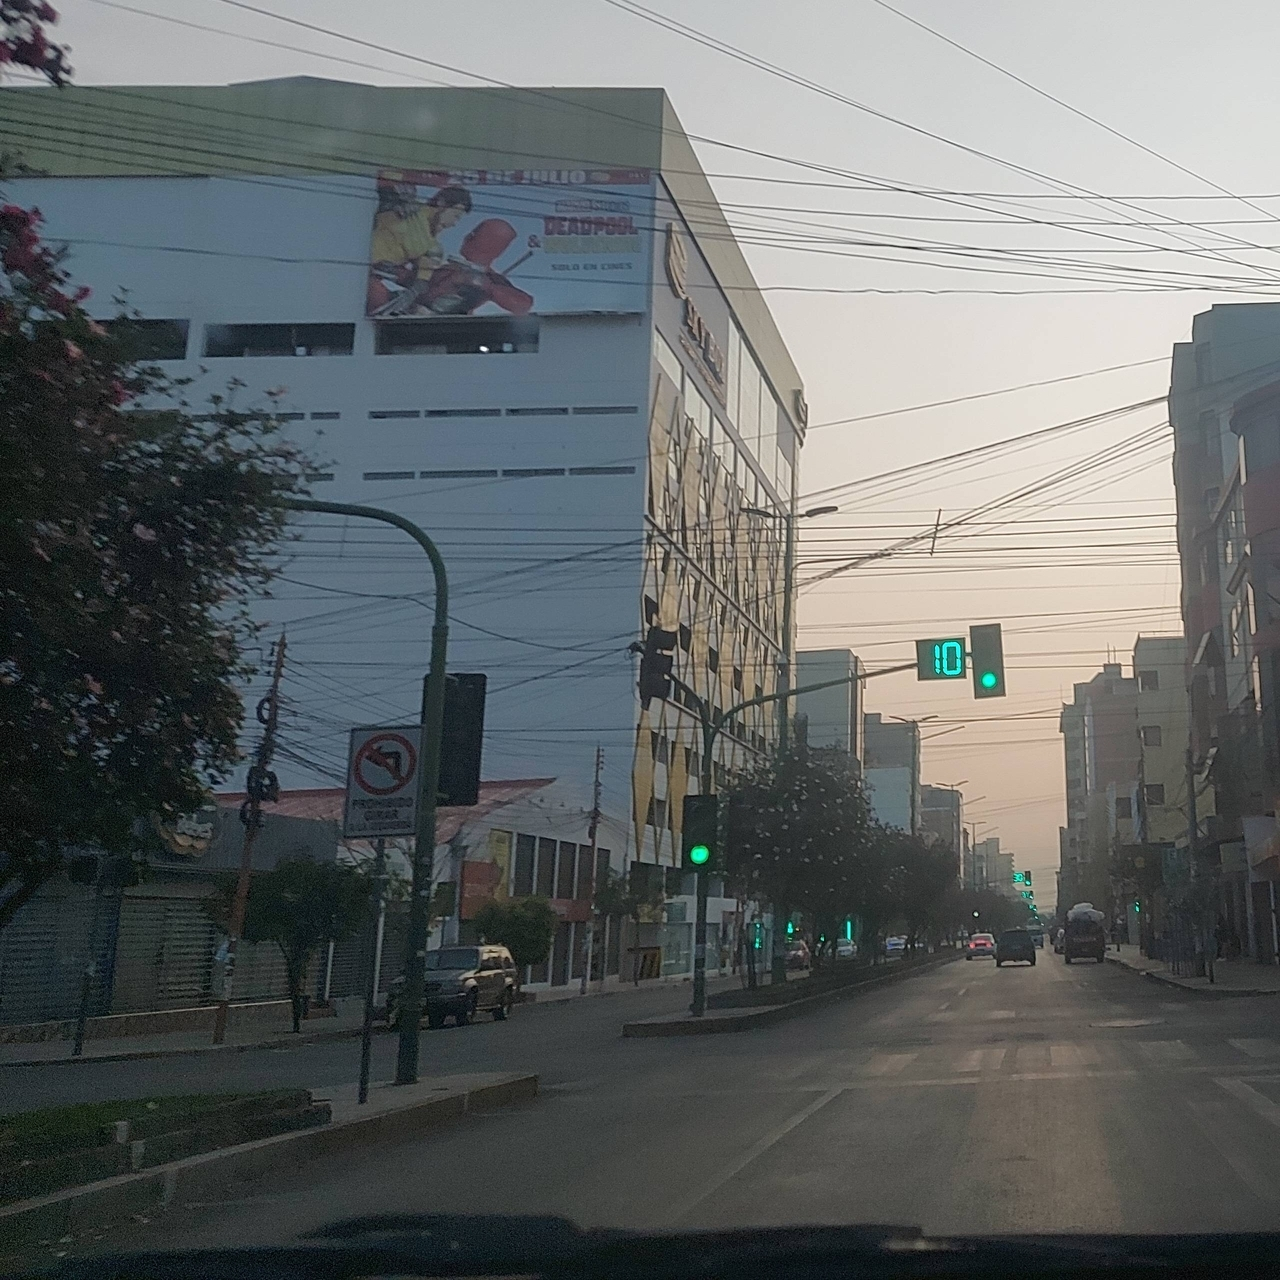prohibido-girar-izquierda: (342, 723, 423, 840)
